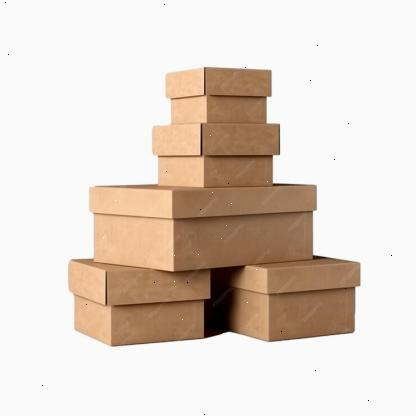box: (172, 186, 317, 272), (108, 269, 211, 346), (268, 262, 361, 342), (202, 122, 281, 188), (206, 67, 272, 123)
